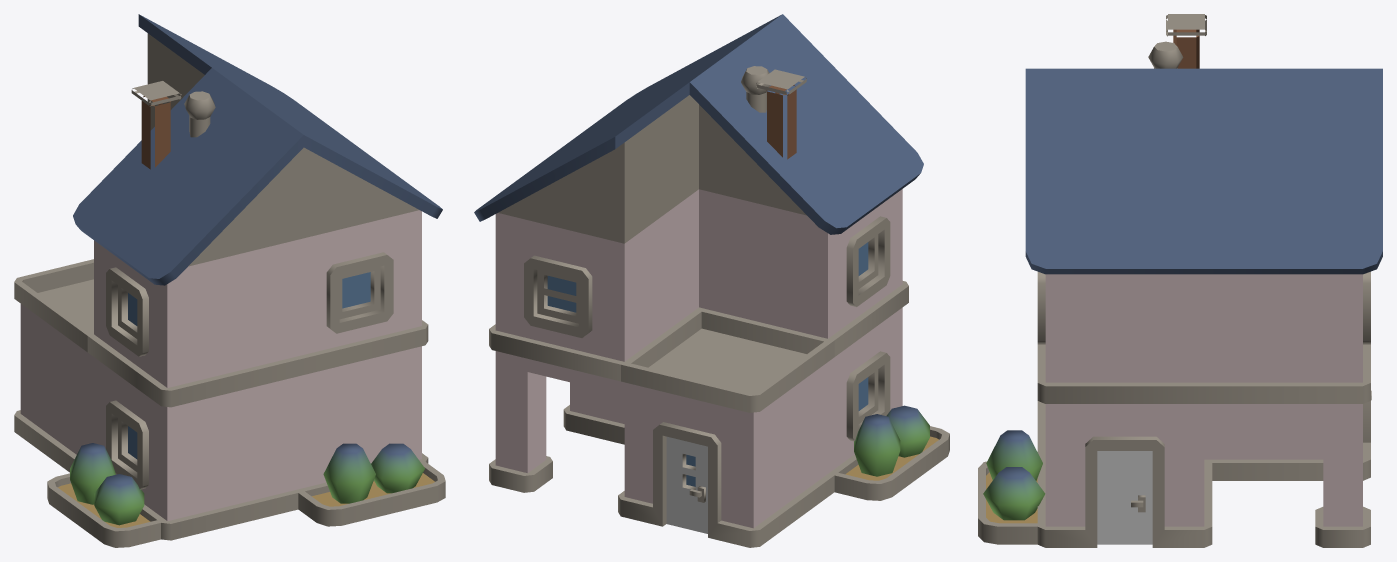
The model's file is house-b.glb.
3 renders of one model, left to right at view 1: azimuth 30°, elevation 25°; view 2: azimuth 150°, elevation 25°; view 3: azimuth 270°, elevation 25°, orthographic. The views are drawn at different scales.
Parts seen in each view (by area): view 1: house-b; view 2: house-b; view 3: house-b.
Part boxes in pixels (x1,y1,x2,y2): house-b: (14,14,445,547); house-b: (474,14,949,547); house-b: (978,14,1382,547).
Size of the model in its own units: 0.85 by 0.9596 by 0.8434.
